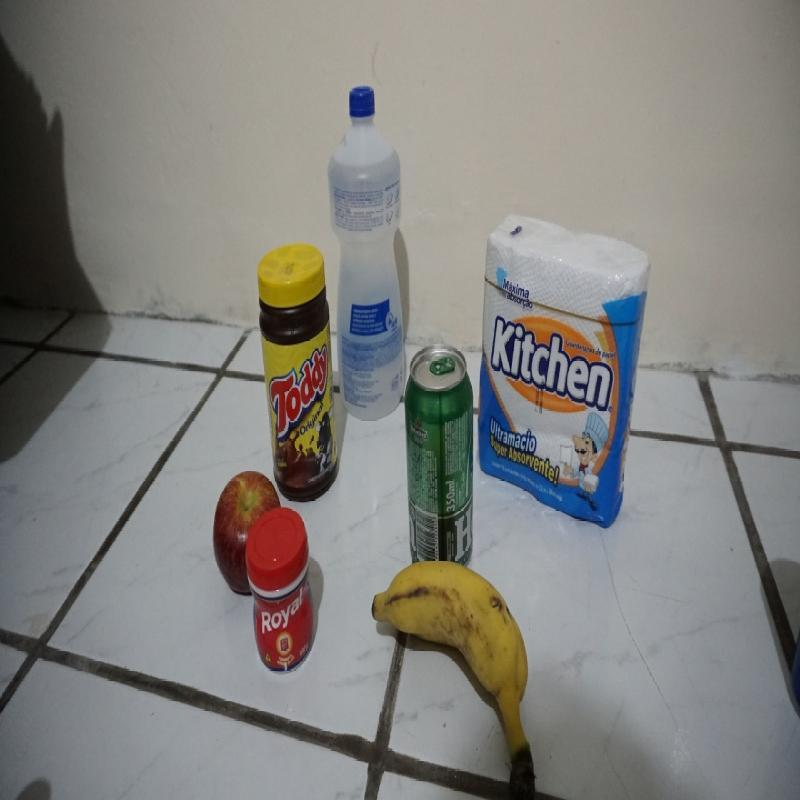Alcohol Bottle: (329, 87, 406, 420)
Apple: (214, 471, 284, 598)
Banana: (372, 561, 539, 794)
Beer can: (406, 348, 474, 569)
Chocolate Powder: (257, 244, 340, 503)
Napkin: (478, 214, 649, 530)
Yeast: (245, 509, 316, 672)
